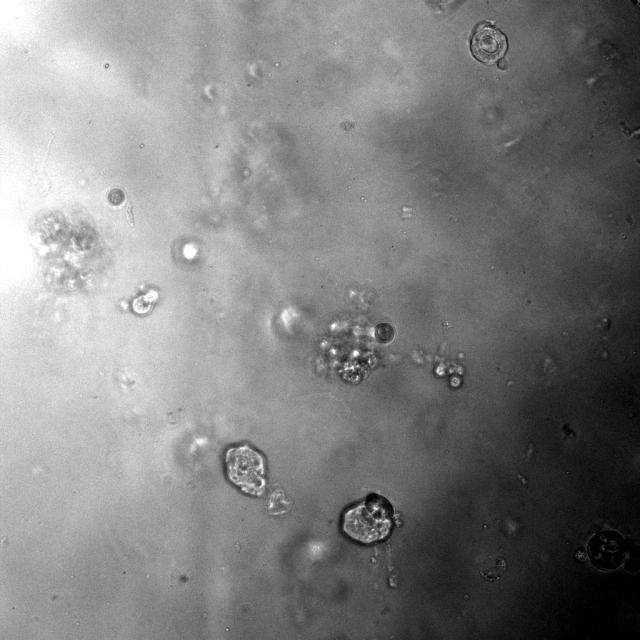organoid: (313, 287, 394, 384), (31, 210, 105, 292), (222, 441, 292, 515), (339, 492, 402, 545), (411, 341, 465, 388), (574, 529, 631, 571), (469, 20, 508, 70), (119, 284, 160, 317), (108, 187, 125, 206)
